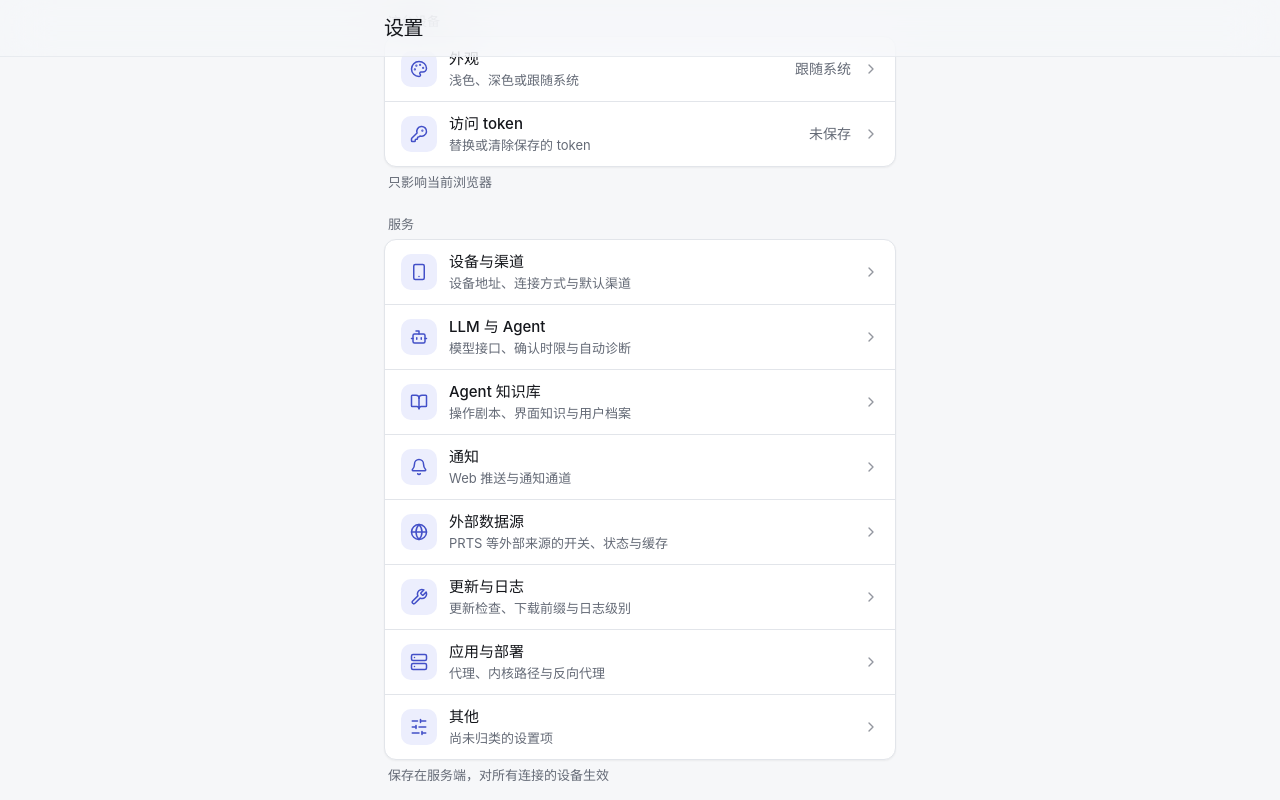
settings index › shows the other section only when the schema has groups outside the known sections
(page scrolled)
Click the link "其他 尚未归类的设置项" at [419, 727], box [385,695,895,759]
(page scrolled)
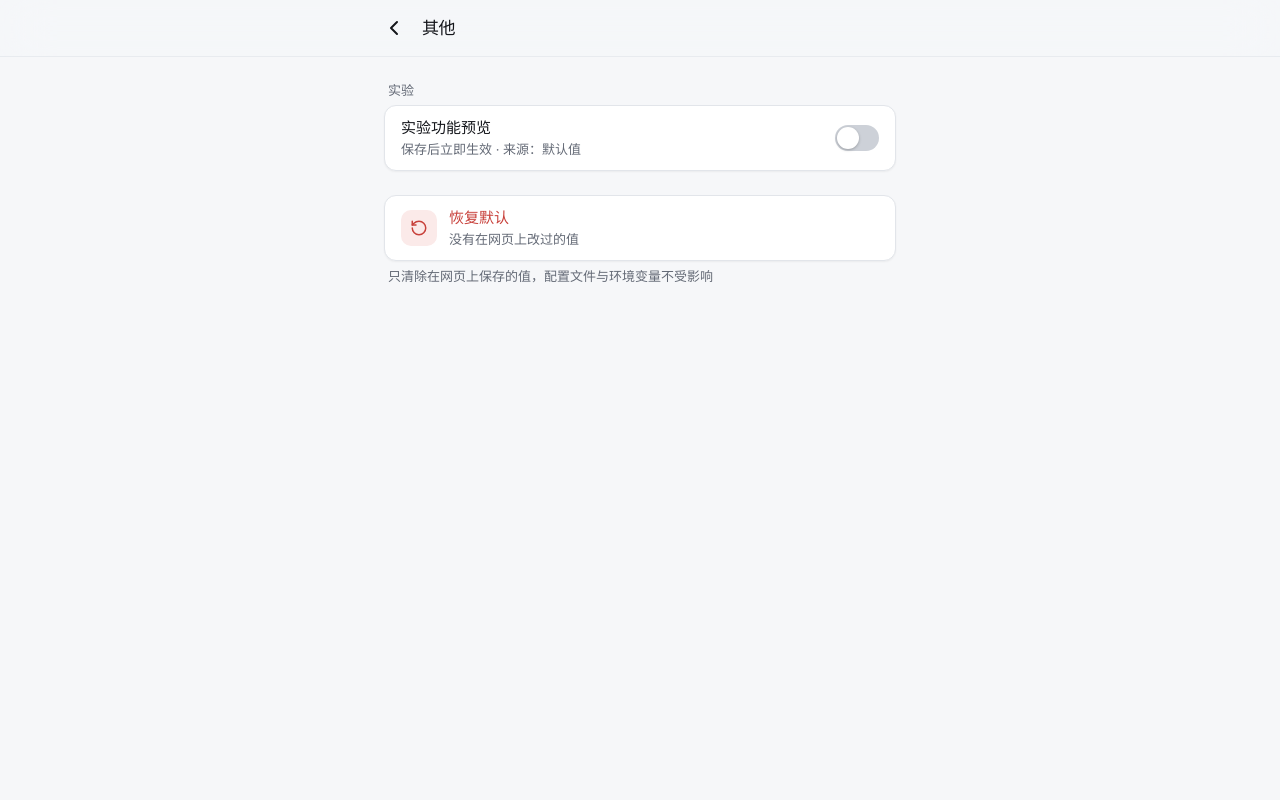
Expected: the switch named "实验功能预览" is shown, [835,125,879,151]
Expected: the heading "实验" is shown, [388,82,414,98]
